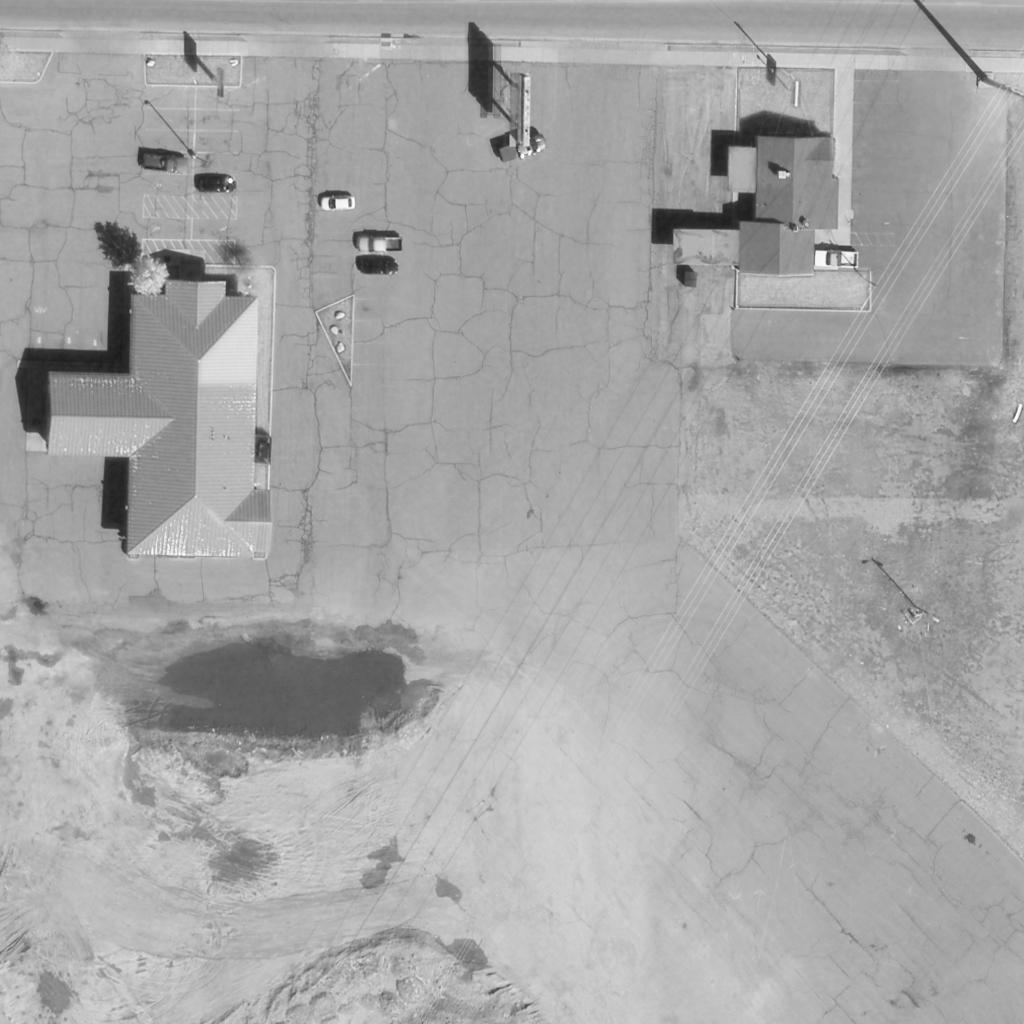vehicle: (498, 136, 546, 162), (142, 152, 188, 176), (814, 250, 858, 270), (356, 236, 404, 254), (196, 177, 236, 193), (360, 259, 400, 275), (320, 196, 356, 212)
